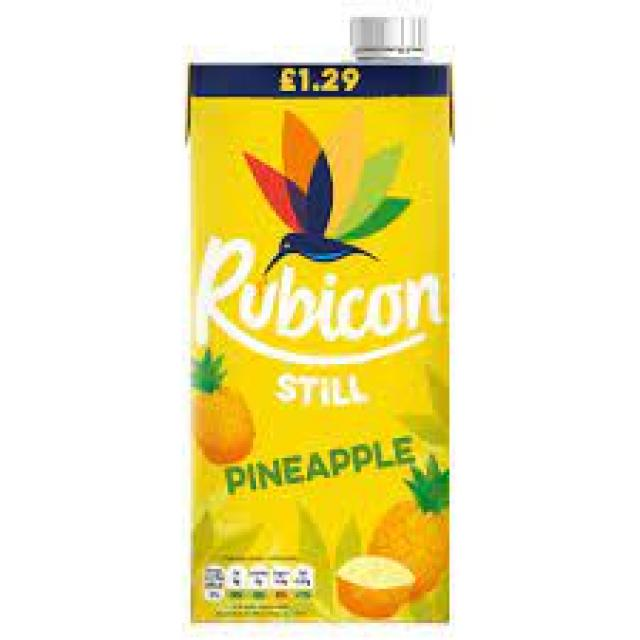non_white_jug: (224, 156, 402, 452)
